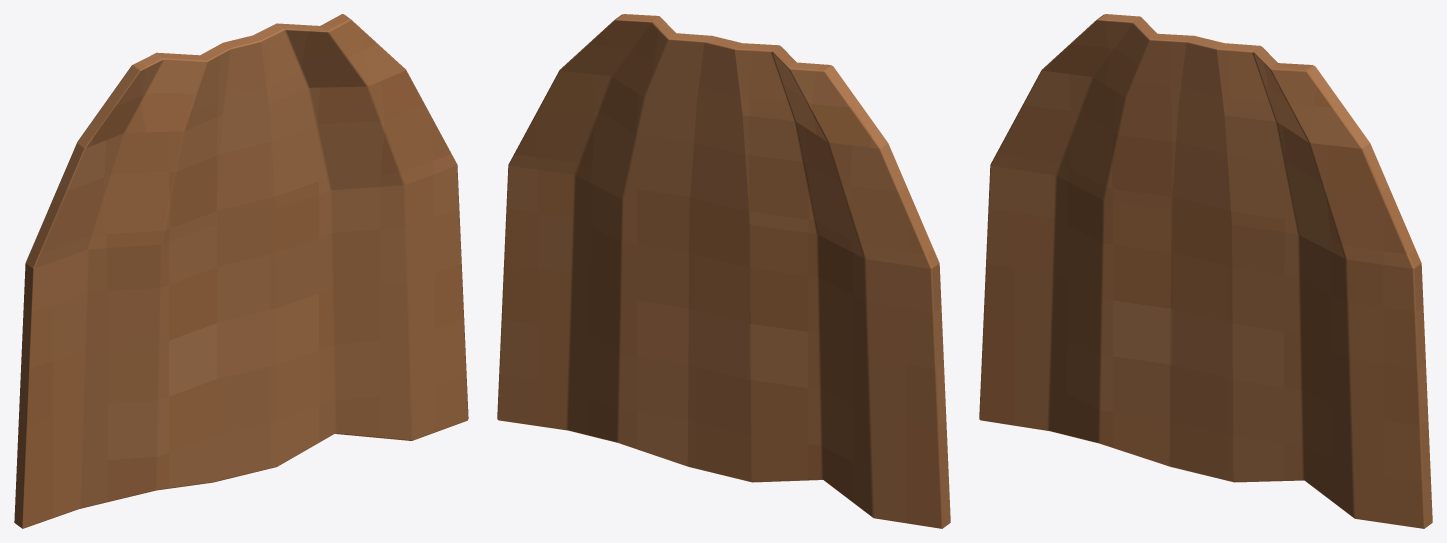
Rendered from Hanging-cloth.glb.
3 views of the same model, side by side, from view 1: azimuth 30°, elevation 25°; view 2: azimuth 150°, elevation 25°; view 3: azimuth 330°, elevation 25° (orthographic).
Parts seen in each view (by area): view 1: Hanging-cloth; view 2: Hanging-cloth; view 3: Hanging-cloth.
Part boxes in pixels (box(x1,y1,x2,y2)): Hanging-cloth: box(14, 14, 468, 528); Hanging-cloth: box(497, 14, 950, 528); Hanging-cloth: box(979, 14, 1432, 528).
Size of the model in its own units: 0.3259 by 0.3 by 0.0276.
1 material, 1 textured.
